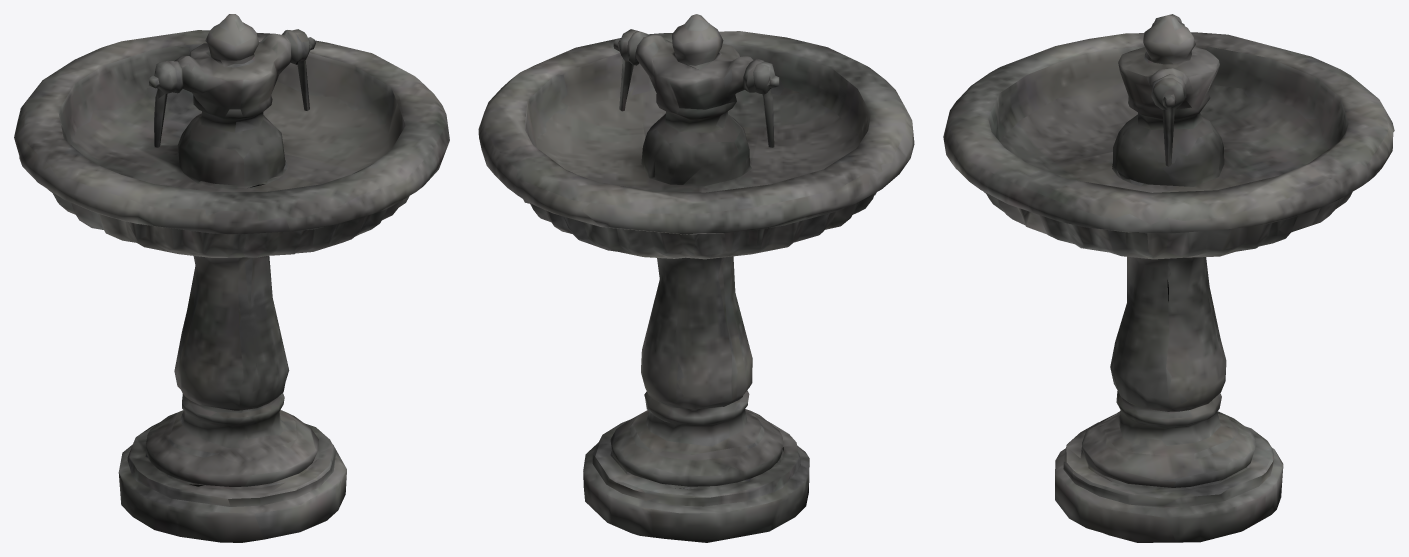
The model's file is chipped-granite-fountain-v001.glb.
3 renders of one model, left to right at view 1: azimuth 30°, elevation 25°; view 2: azimuth 150°, elevation 25°; view 3: azimuth 270°, elevation 25°, orthographic.
Parts seen in each view (by area): view 1: chipped-granite-fountain; view 2: chipped-granite-fountain; view 3: chipped-granite-fountain.
Part boxes in pixels (x1,y1,x2,y2): chipped-granite-fountain: (14,14,449,542); chipped-granite-fountain: (478,14,914,542); chipped-granite-fountain: (943,14,1394,542).
Bounding box in the file's own units: 1.19 × 1.45 × 1.22.
1 material, 1 textured.
